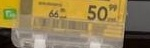1d: (31, 14, 88, 32)
